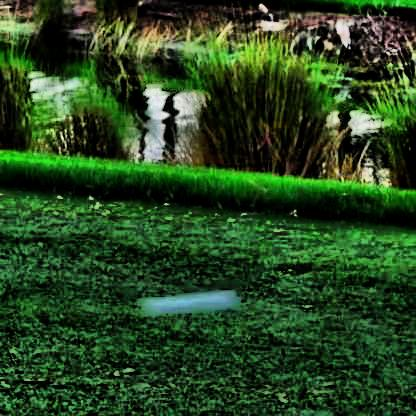golfball: (136, 282, 241, 317)
